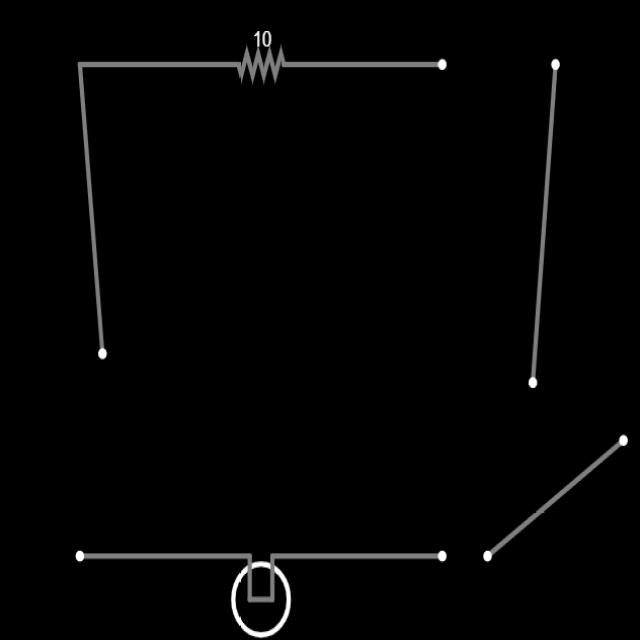Light Bulb: (231, 559, 291, 638)
Resistor: (238, 47, 284, 83)
Wire: (484, 436, 628, 561), (529, 59, 558, 388), (78, 62, 105, 358), (271, 551, 444, 561), (76, 553, 251, 562), (282, 59, 445, 68), (80, 61, 239, 69)
